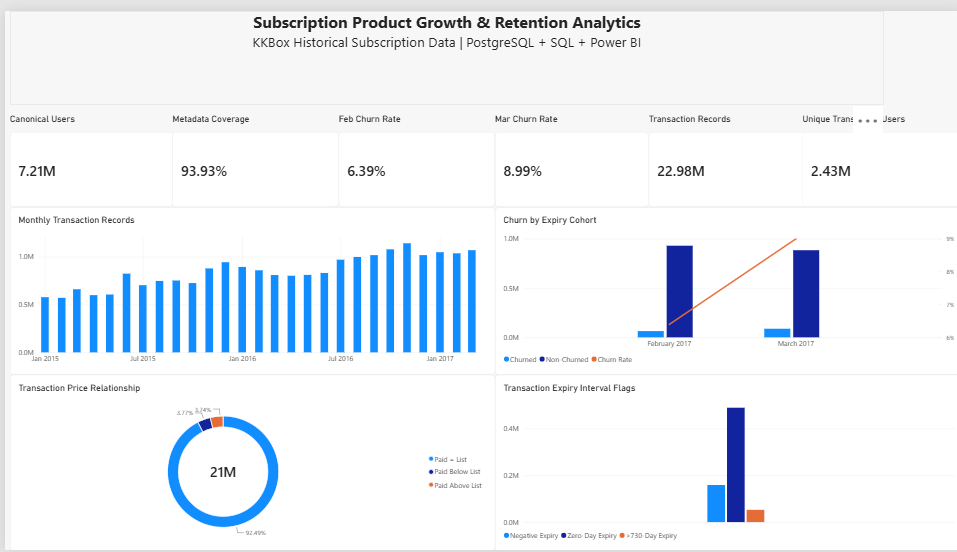

What the dashboard file says about the page in this screenshot:
{"tool":"powerbi","page":{"name":"Subscription Overview","canvas":[1920,1080],"ordinal":0},"visuals":[{"type":"cardVisual","title":"Canonical Users","fields":{"Data":["Sum(analytics v_powerbi_overview_kpis.canonical_user_count)"]},"box":[10,205,325,187.5],"z":0},{"type":"cardVisual","title":"Metadata Coverage","fields":{"Data":["Sum(analytics v_powerbi_overview_kpis.member_metadata_coverage_rate)"]},"box":[335,205,332.5,187.5],"z":1000},{"type":"cardVisual","title":"Transaction Records","fields":{"Data":["Sum(analytics v_powerbi_overview_kpis.transaction_records)"]},"box":[1287.5,205,325,187.5],"z":2000},{"type":"cardVisual","title":"Mar Churn Rate","fields":{"Data":["Sum(analytics v_powerbi_overview_kpis.mar_churn_rate)"]},"box":[980,205,307.5,187.5],"z":3000},{"type":"cardVisual","title":"Feb Churn Rate","fields":{"Data":["Sum(analytics v_powerbi_overview_kpis.feb_churn_rate)"]},"box":[667.5,205,312.5,187.5],"z":4000},{"type":"cardVisual","title":"Unique Transacting Users","fields":{"Data":["Sum(analytics v_powerbi_overview_kpis.unique_transacting_users)"]},"box":[1595,205,325,187.5],"z":5000},{"type":"lineClusteredColumnComboChart","title":"Monthly Transaction Records","fields":{"Category":["analytics v_monthly_transaction_activity.transaction_month"],"Y":["Sum(analytics v_monthly_transaction_activity.transaction_count)"]},"box":[10,392.5,970,335],"z":6000},{"type":"lineClusteredColumnComboChart","title":"Churn by Expiry Cohort","fields":{"Category":["analytics v_churn_cohort_summary.expiry_cohort_month"],"Y":["Sum(analytics v_churn_cohort_summary.churned_count)","Sum(analytics v_churn_cohort_summary.non_churned_count)"],"Y2":["Sum(analytics v_churn_cohort_summary.churn_rate)"]},"box":[980,392.5,940,335],"z":7000},{"type":"donutChart","title":"Transaction Price Relationship","fields":{"Y":["Sum(analytics v_transaction_relationship_anomaly_summary.paid_equal_list_count)","Sum(analytics v_transaction_relationship_anomaly_summary.paid_below_list_count)","Sum(analytics v_transaction_relationship_anomaly_summary.paid_above_list_count)"]},"box":[10,727.5,970,352.5],"z":8000},{"type":"clusteredColumnChart","title":"Transaction Expiry Interval Flags","fields":{"Y":["Sum(analytics v_transaction_relationship_anomaly_summary.negative_expiry_count)","Sum(analytics v_transaction_relationship_anomaly_summary.zero_expiry_count)","Sum(analytics v_transaction_relationship_anomaly_summary.long_expiry_count)"]},"box":[980,727.5,940,352.5],"z":9000},{"type":"textbox","box":[10,0,1747.5,187.5],"z":9001}]}

Visuals, with their boxes in screenshot pixels (x1, y1, x2, y2), scaled from the page's 1920x1080 canvas onto the 957x552 screenshot:
"Canonical Users" cardVisual: bbox=[5, 105, 167, 201]
"Metadata Coverage" cardVisual: bbox=[167, 105, 333, 201]
"Transaction Records" cardVisual: bbox=[642, 105, 804, 201]
"Mar Churn Rate" cardVisual: bbox=[488, 105, 642, 201]
"Feb Churn Rate" cardVisual: bbox=[333, 105, 488, 201]
"Unique Transacting Users" cardVisual: bbox=[795, 105, 956, 201]
"Monthly Transaction Records" lineClusteredColumnComboChart: bbox=[5, 201, 488, 372]
"Churn by Expiry Cohort" lineClusteredColumnComboChart: bbox=[488, 201, 956, 372]
"Transaction Price Relationship" donutChart: bbox=[5, 372, 488, 551]
"Transaction Expiry Interval Flags" clusteredColumnChart: bbox=[488, 372, 956, 551]
textbox: bbox=[5, 0, 876, 96]
